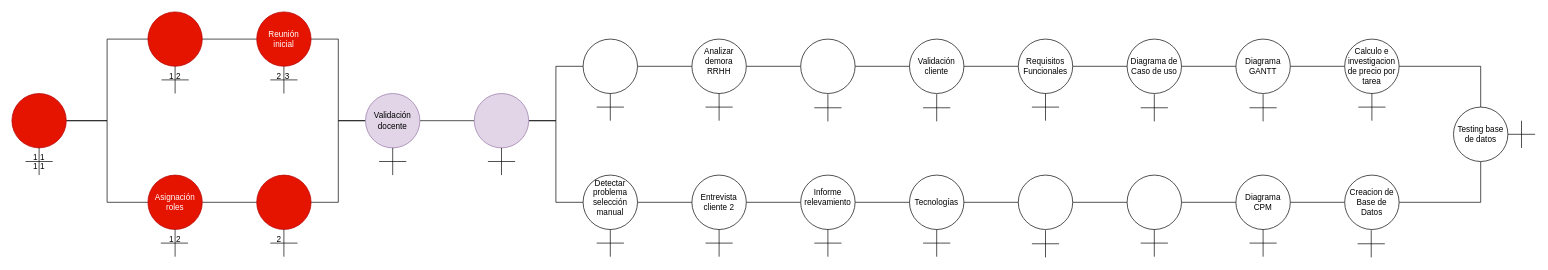
Image size: 1548x270. Some labels were removed from this diagram. Each missing label, with the centre of its shape:
Bocetos de vistas: point 1154,202
Confirmación integrantes: point 174,38
Definir objetivo general: point 610,66
Diagrama DER: point 1045,202
Encuesta 1: point 827,66
Entrevista Cliente 1: point 501,120
Formación grupo: point 38,120
Idea SAFE: point 283,202
